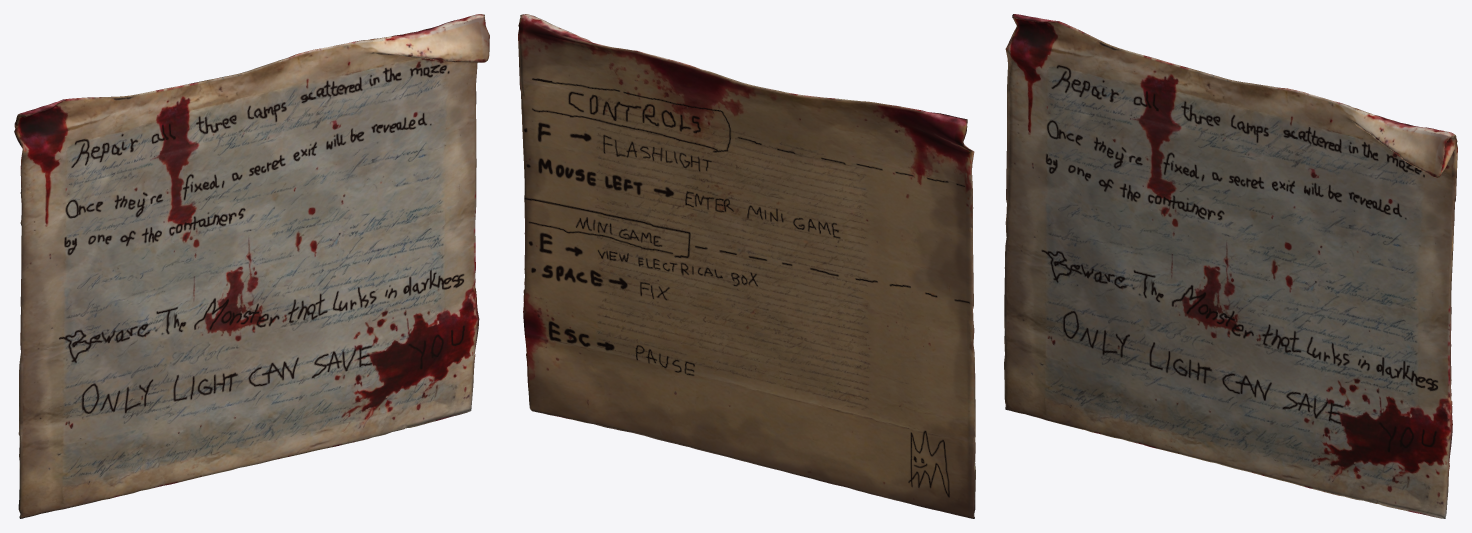
File: OldPaper_writing.fbx
3 views of the same model, side by side, from view 1: azimuth 30°, elevation 25°; view 2: azimuth 150°, elevation 25°; view 3: azimuth 330°, elevation 25° (orthographic).
Parts seen in each view (by area): view 1: Mesh1_Mesh1.038; view 2: Mesh1_Mesh1.038; view 3: Mesh1_Mesh1.038.
Boxes of the visible parts, bbox=[...] form: Mesh1_Mesh1.038: bbox=[14, 14, 489, 518]; Mesh1_Mesh1.038: bbox=[518, 14, 975, 518]; Mesh1_Mesh1.038: bbox=[1004, 14, 1457, 518].
Size of the model in its own units: 201 by 168 by 16.65.
